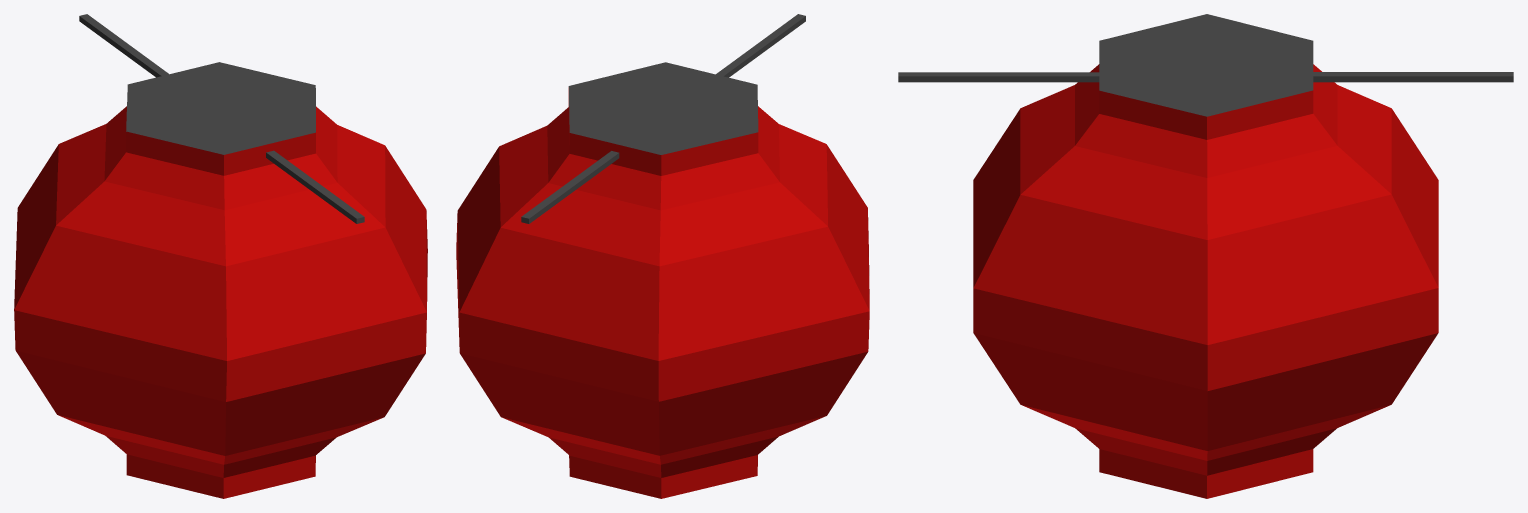
The model's file is LanternA.fbx.
The picture shows the model from 3 angles, left to right: view 1: azimuth 30°, elevation 25°; view 2: azimuth 150°, elevation 25°; view 3: azimuth 270°, elevation 25°; orthographic projection. The views are drawn at different scales.
Parts seen in each view (by area): view 1: Lantern1.001; view 2: Lantern1.001; view 3: Lantern1.001.
Boxes of the visible parts, bbox=[...] form: Lantern1.001: bbox=[14, 14, 427, 498]; Lantern1.001: bbox=[456, 14, 869, 498]; Lantern1.001: bbox=[898, 14, 1513, 498].
Bounding box in the file's own units: 224 × 178 × 260.
